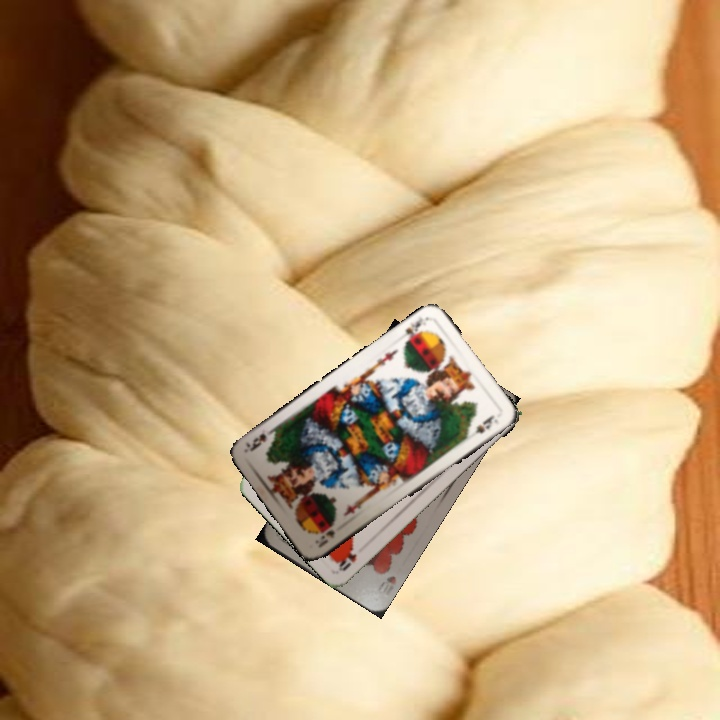H10: (374, 571, 399, 598)
HO: (333, 545, 359, 574)
SK: (401, 316, 425, 346), (311, 526, 337, 550)
